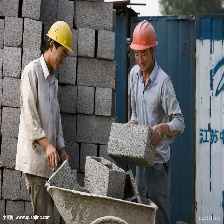helmet: (39, 16, 76, 61), (127, 16, 163, 54)
no-vest: (13, 61, 68, 177), (125, 62, 185, 129)
person: (128, 16, 187, 194), (17, 17, 72, 206)
